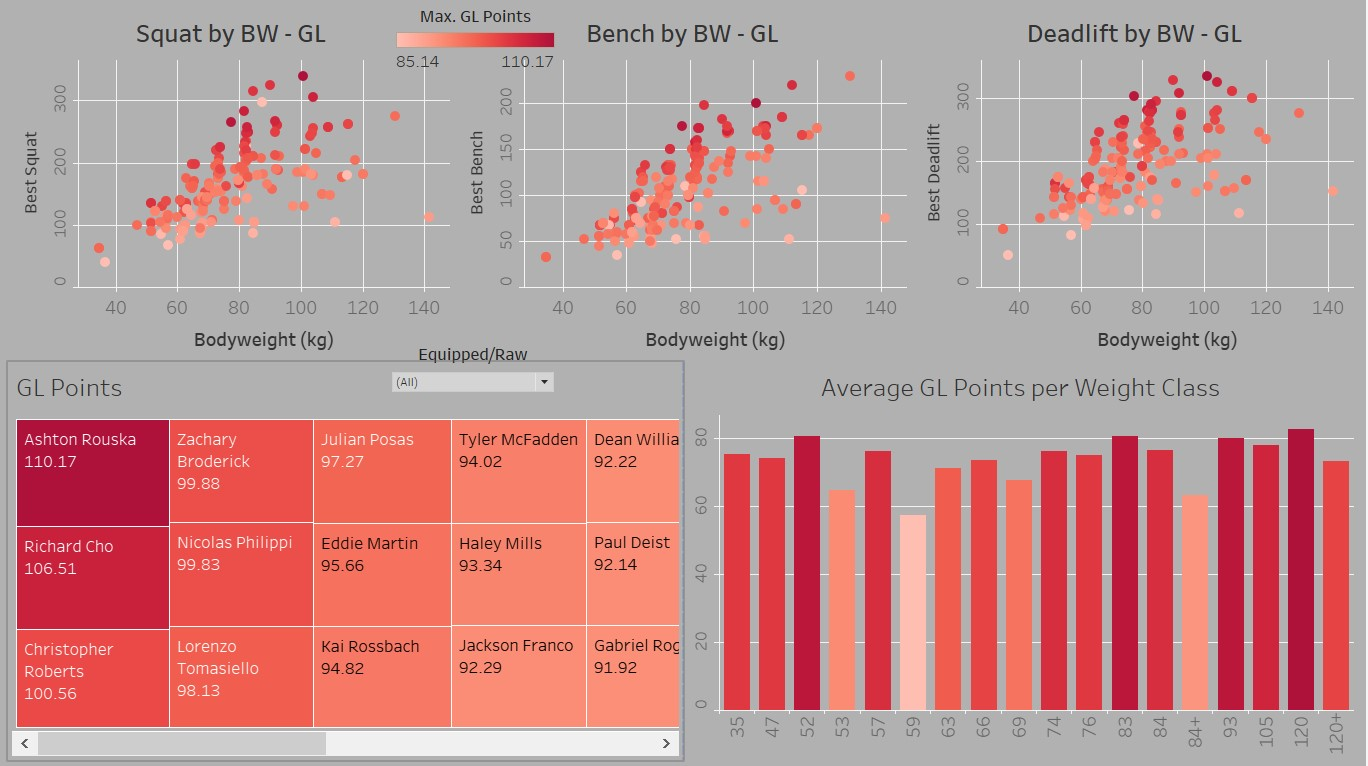

The page's visual inventory and layout, read from the dashboard file:
{"tool":"tableau","page":{"name":"GL Dashboard","canvas":[1366,768],"ordinal":3},"visuals":[{"type":"legend","title":"GL Points","param":"[federated.0a6m34t0qxb0os11sy90s032ogwb].[max:GL Points:qk]","box":[337,3,167,78]},{"type":"worksheet","title":"Squat by BW - GL","mark":"Circle","rows":["Best Squat"],"cols":["Bodyweight (kg)"],"box":[8,8,393.2,353.9]},{"type":"worksheet","title":"Bench by BW - GL","mark":"Circle","rows":["Best Bench"],"cols":["Bodyweight (kg)"],"box":[401.2,8,403,353.9]},{"type":"worksheet","title":"Deadlift by BW - GL","mark":"Circle","rows":["Best Deadlift"],"cols":["Bodyweight (kg)"],"box":[804.2,8,394.5,353.9]},{"type":"filter","title":"GL Points","param":"[federated.0a6m34t0qxb0os11sy90s032ogwb].[none:Equipment:nk]","box":[1198.7,8,159.3,93]},{"type":"filter","title":"GL Points","param":"[federated.0a6m34t0qxb0os11sy90s032ogwb].[none:Sex:nk]","box":[1198.7,101,159.3,93]},{"type":"worksheet","title":"GL Points","mark":"Automatic","box":[8,361.9,595.3,398.1]},{"type":"worksheet","title":"Weight Classes - GL","mark":"Automatic","rows":["GL Points"],"cols":["Weight Class (kg)"],"box":[603.3,361.9,595.4,398.1]},{"type":"filter","title":"GL Points","param":"[federated.0a6m34t0qxb0os11sy90s032ogwb].[attr:GL Points:qk]","box":[95,365,168,70]}]}

Visuals, with their boxes in screenshot pixels (x1, y1, x2, y2), scaled from the page's 1366x768 canvas onto the 1368x766 screenshot:
"GL Points" legend: (337, 3, 505, 81)
"Squat by BW - GL" worksheet (Circle marks): (8, 8, 402, 361)
"Bench by BW - GL" worksheet (Circle marks): (402, 8, 805, 361)
"Deadlift by BW - GL" worksheet (Circle marks): (805, 8, 1200, 361)
"GL Points" filter: (1200, 8, 1360, 101)
"GL Points" filter: (1200, 101, 1360, 193)
"GL Points" worksheet: (8, 361, 604, 758)
"Weight Classes - GL" worksheet: (604, 361, 1200, 758)
"GL Points" filter: (95, 364, 263, 434)
